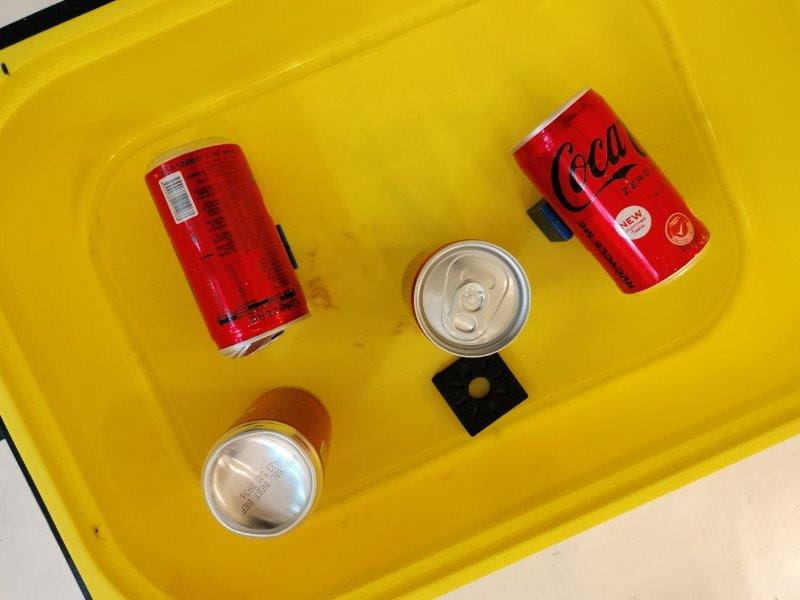Coke: (512, 87, 712, 295), (144, 137, 310, 353), (200, 384, 331, 537), (401, 239, 531, 358)
